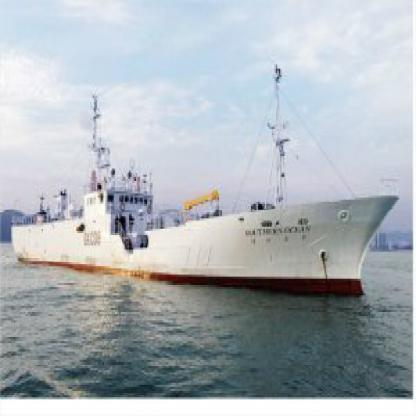fish-b: (10, 60, 408, 310)
